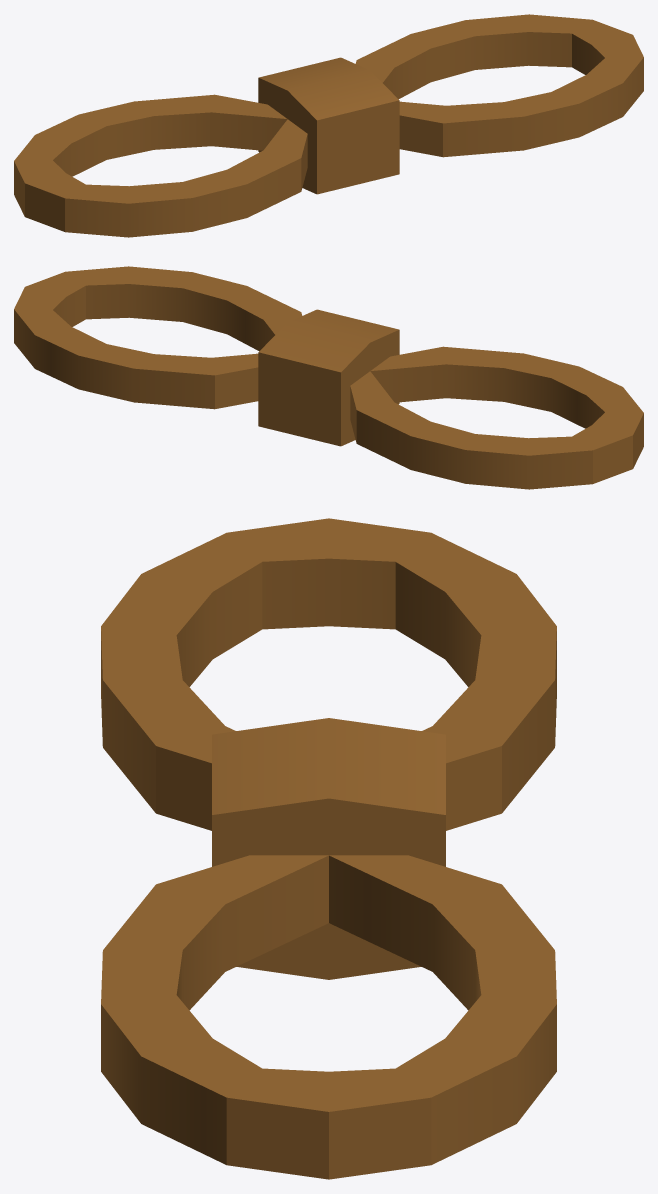
File: Tali.fbx
The picture shows the model from 3 angles, top to bottom: view 1: azimuth 30°, elevation 25°; view 2: azimuth 150°, elevation 25°; view 3: azimuth 270°, elevation 25°; orthographic projection. The views are drawn at different scales.
Parts seen in each view (by area): view 1: Tali; view 2: Tali; view 3: Tali.
Part boxes in pixels (x1,y1,x2,y2): Tali: (14, 14, 643, 237); Tali: (14, 266, 643, 489); Tali: (101, 518, 556, 1179).
Bounding box in the file's own units: 19.19 × 2.74 × 6.23.
